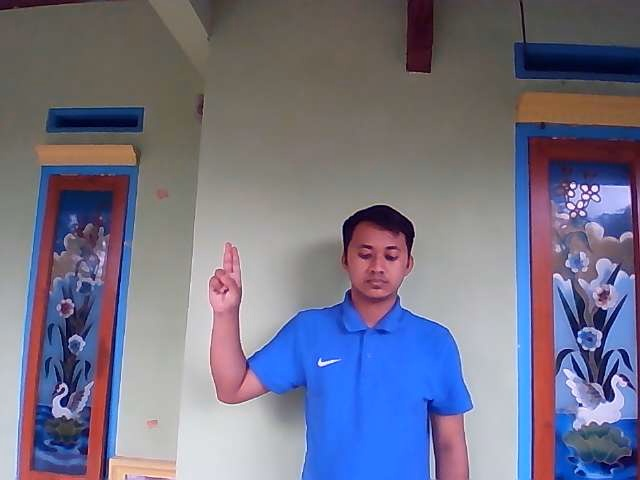U: (206, 240, 243, 311)
